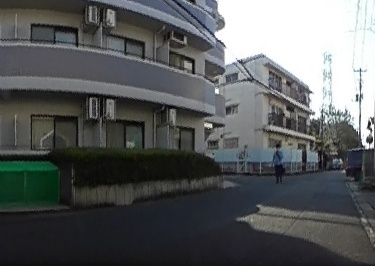person: (271, 143, 285, 185)
